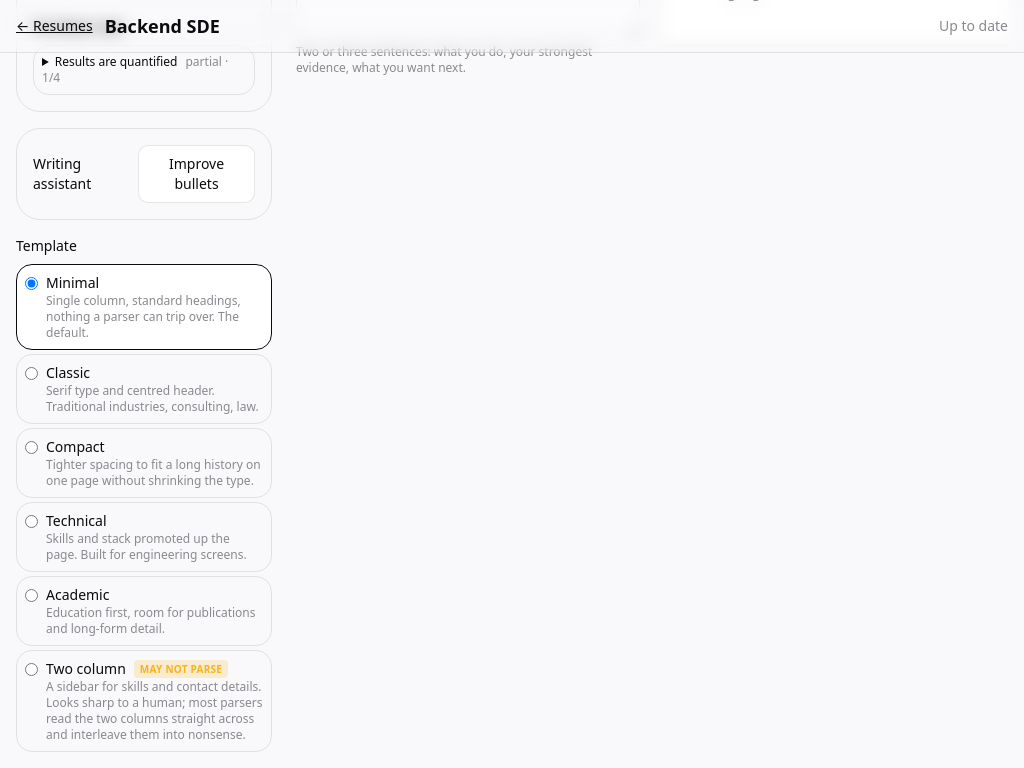
it: templates › offers every template and warns about the unsafe one
(page scrolled)
Expected: the heading "Backend SDE" is shown, [105,12,220,40]
Expected: the radio button labelled "Minimal" is checked, [25,277,38,290]
What coordinates should you click on to do the following:
click the radio button labelled "Two column"
I would click on:
 (32, 670)
Its box is [25,663,38,676].
(page scrolled)
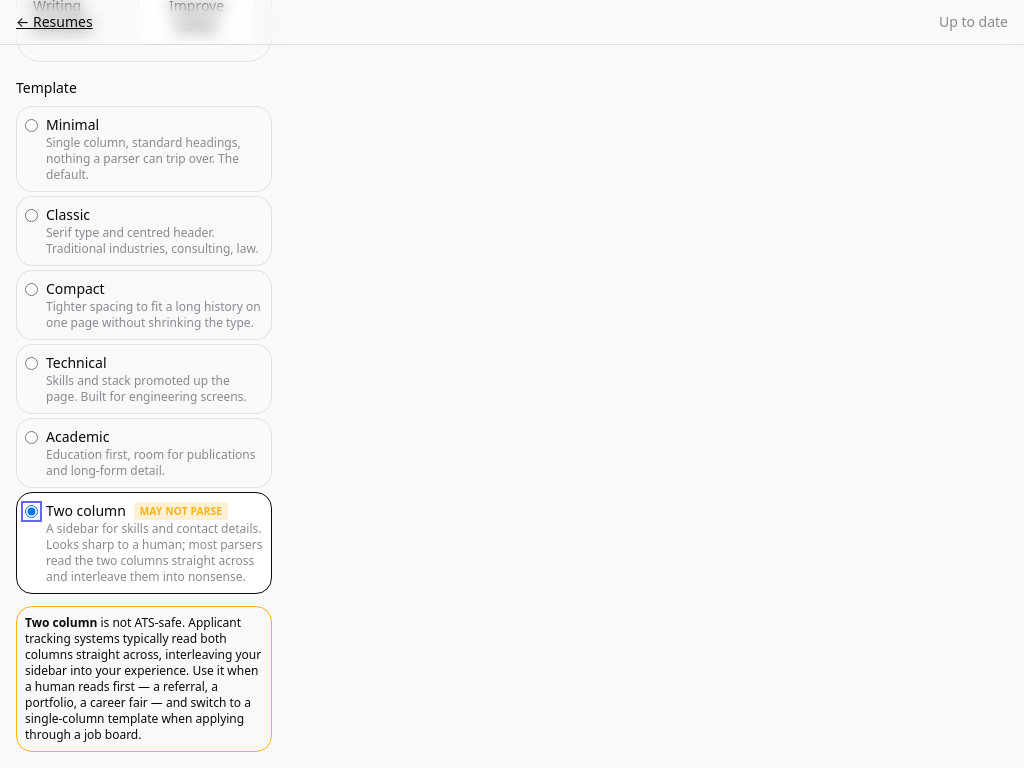
Now the message shows "not ATS-safe", box [25,614,261,743]
